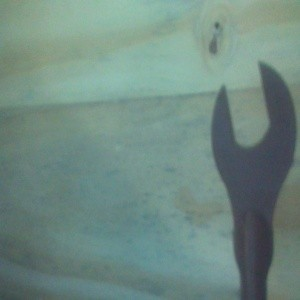spanner: (210, 60, 298, 300)
